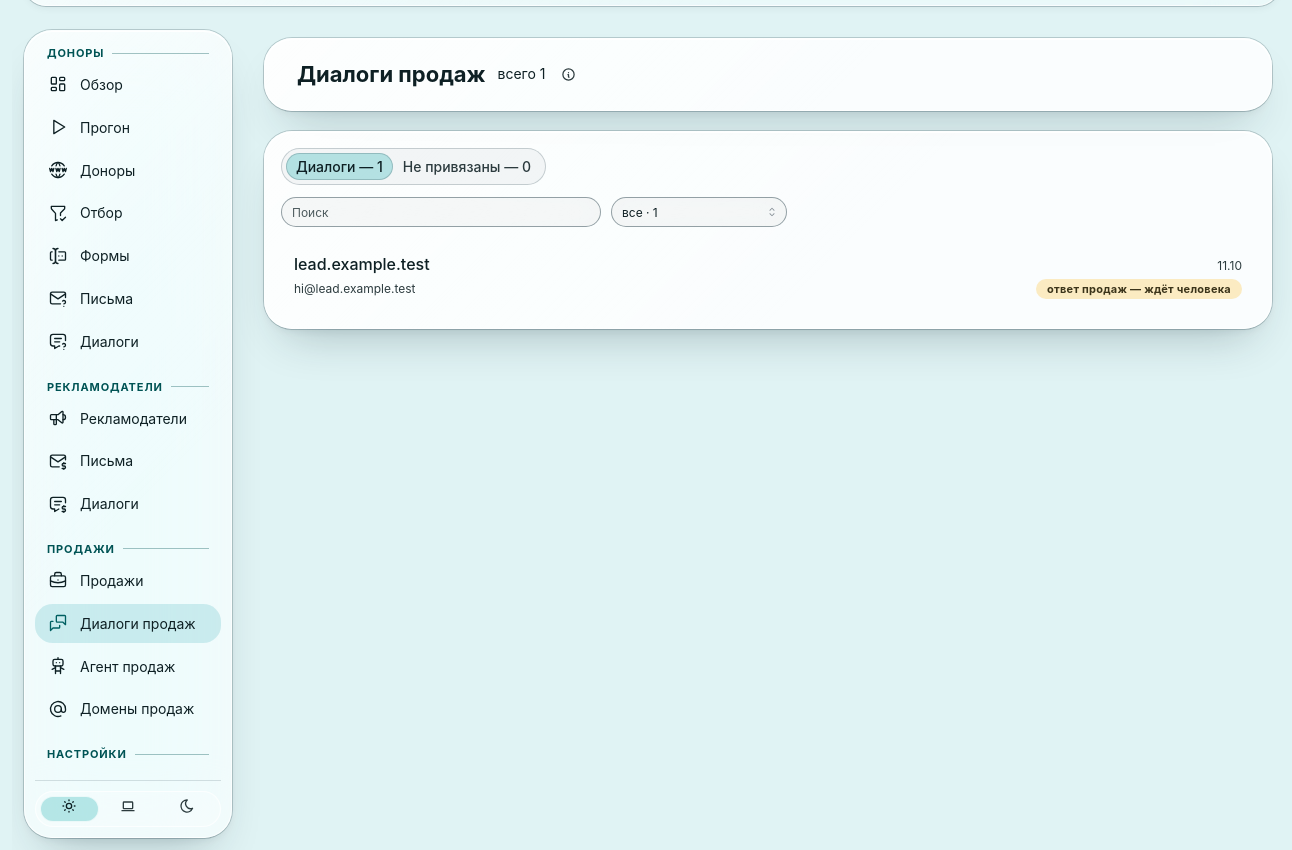
части списка диалогов › вкладка «Не привязаны» и обратно — в той же части
Expected: the navigation bar named "Разделы" is shown, 12,18 -> 244,849
Expected: the text "lead.example.test" is shown, 294,252 -> 430,277
Click the 1st radio button labelled "Не привязаны — 0" at (467, 167), box 393,153 -> 541,180
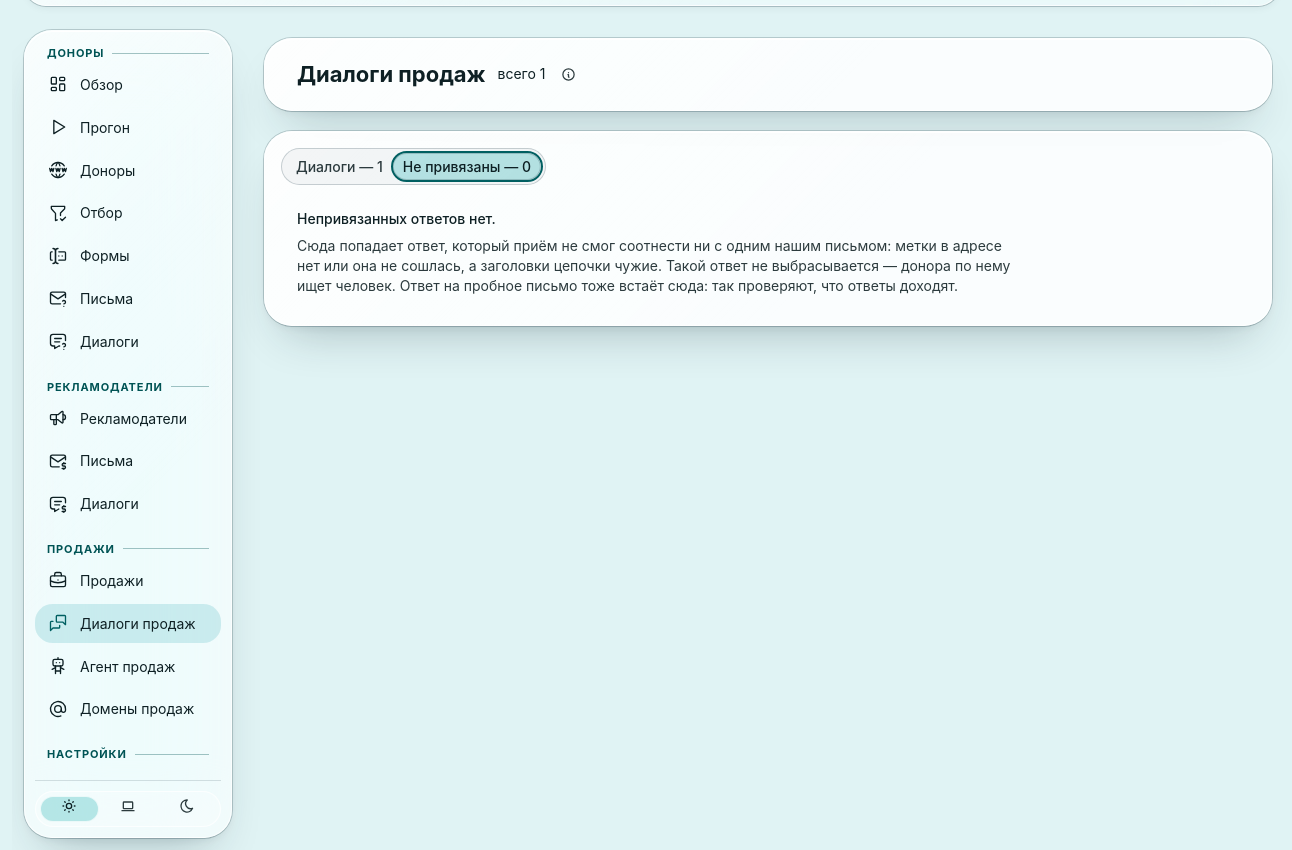
Click the 1st radio button labelled "Диалоги — 1" at (339, 166), box 296,158 -> 383,175
(page scrolled)
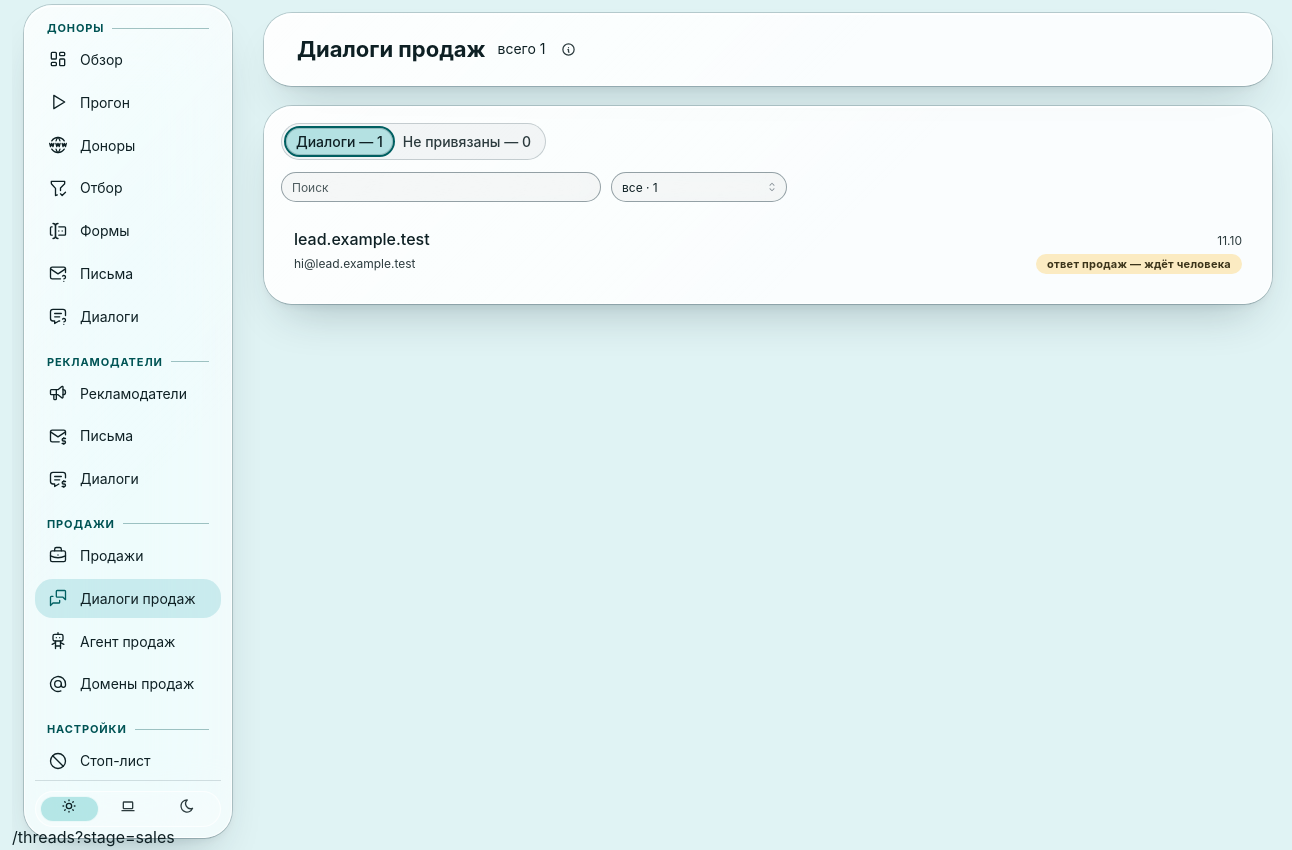
Expected: the text with test id "where" reads "/threads?stage=sales", 12,827 -> 175,847
